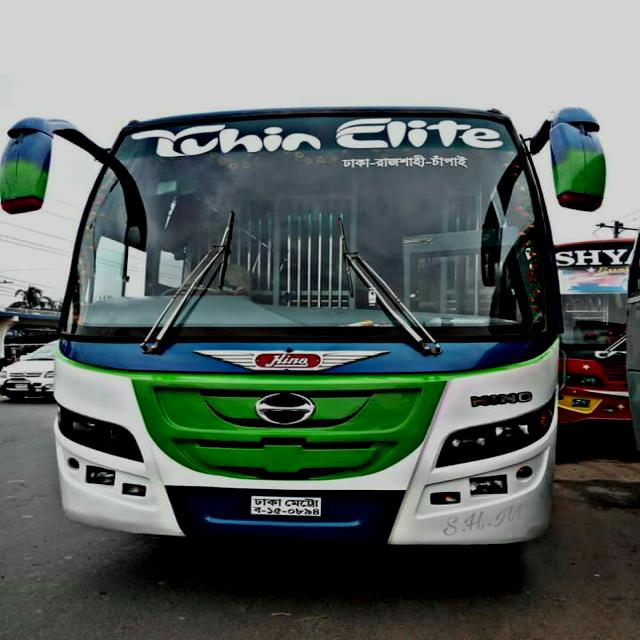bus: (4, 71, 578, 569), (533, 232, 640, 456)
